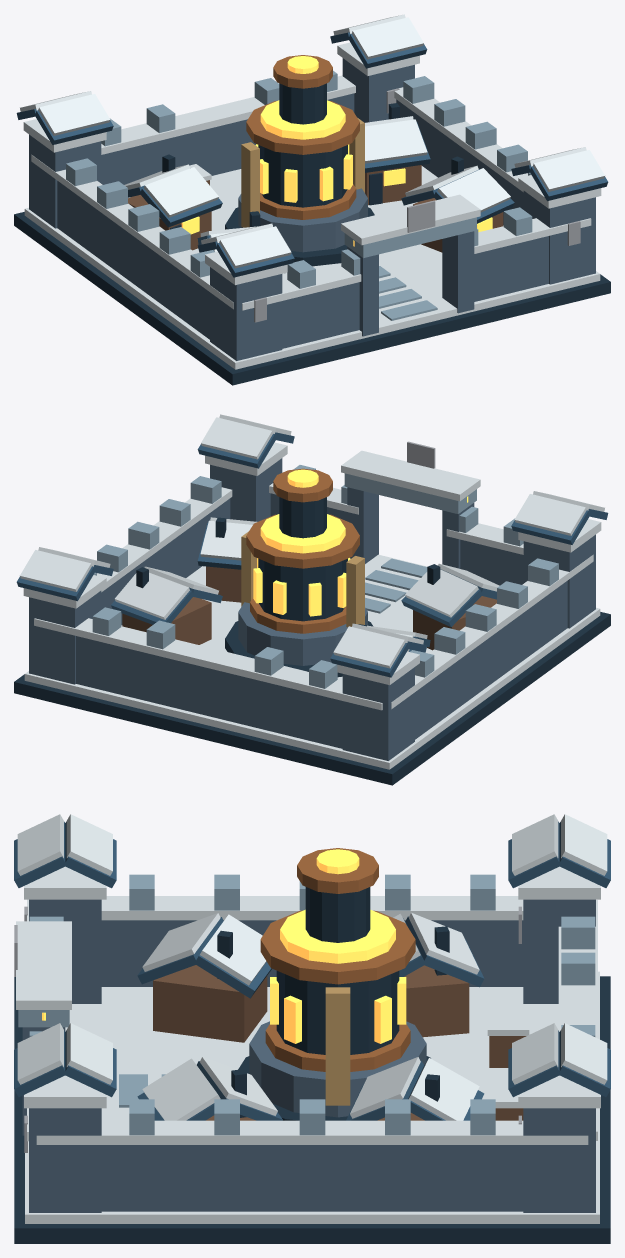
Rendered from frontier_neutral.glb.
3 views of the same model, one above another, from view 1: azimuth 30°, elevation 25°; view 2: azimuth 150°, elevation 25°; view 3: azimuth 270°, elevation 25° (orthographic). The views are drawn at different scales.
Visible parts, largest first — view 1: frontier_neutral; view 2: frontier_neutral; view 3: frontier_neutral.
Boxes of the visible parts, x1,y1,x2,y2 form: frontier_neutral: (14,14,610,385); frontier_neutral: (14,414,610,785); frontier_neutral: (14,814,610,1243).
Size of the model in its own units: 2.19 by 1.05 by 2.19.
